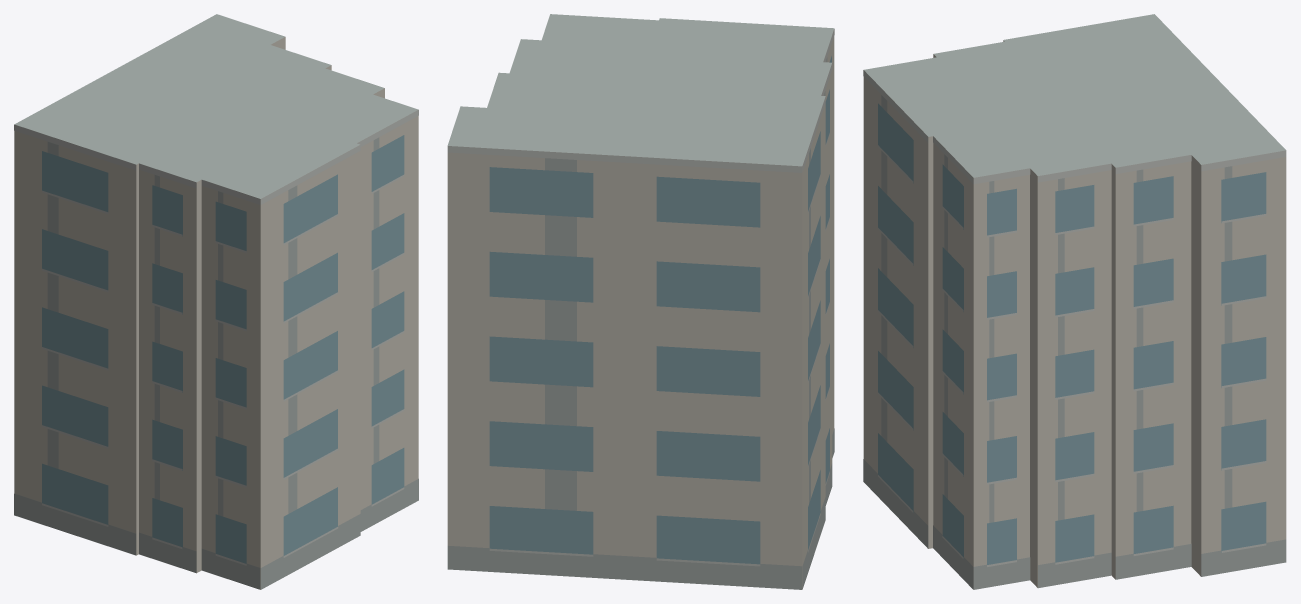
The model's file is survey-upis-32495525.glb.
3 renders of one model, left to right at view 1: azimuth 30°, elevation 25°; view 2: azimuth 150°, elevation 25°; view 3: azimuth 270°, elevation 25°, orthographic. The views are drawn at different scales.
Parts seen in each view (by area): view 1: survey-upis-32495525.tmp; view 2: survey-upis-32495525.tmp; view 3: survey-upis-32495525.tmp.
Boxes of the visible parts, left/top/right/bottom form: survey-upis-32495525.tmp: left=14, top=14, right=418, bottom=589; survey-upis-32495525.tmp: left=447, top=14, right=834, bottom=589; survey-upis-32495525.tmp: left=863, top=14, right=1286, bottom=589.
Size of the model in its own units: 13.27 by 15.55 by 14.47.
